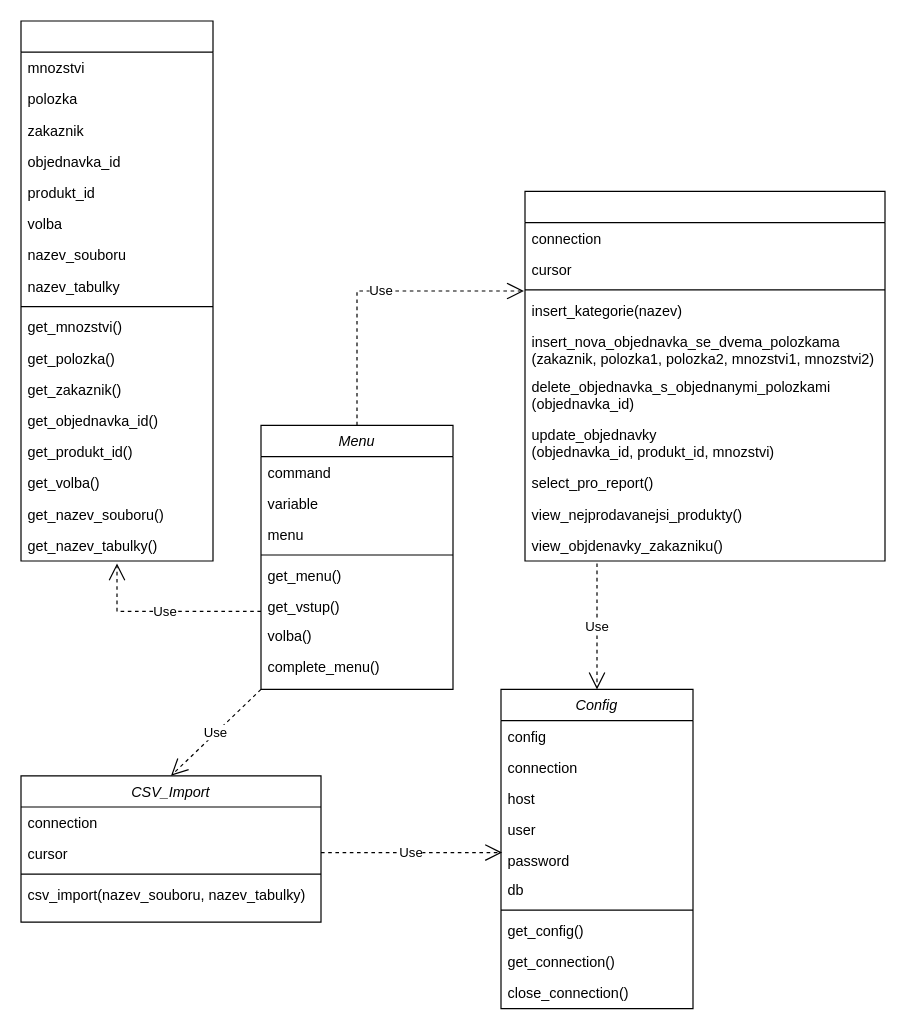
This 906x1033 diagram has some shape labels left out. The shapes that lost their labels are listed below. From the top down, each one's box as (x1, y1, x2, y2) in pixels, then its label:
(20, 20, 213, 561): Inputs
(524, 190, 885, 561): Commands
